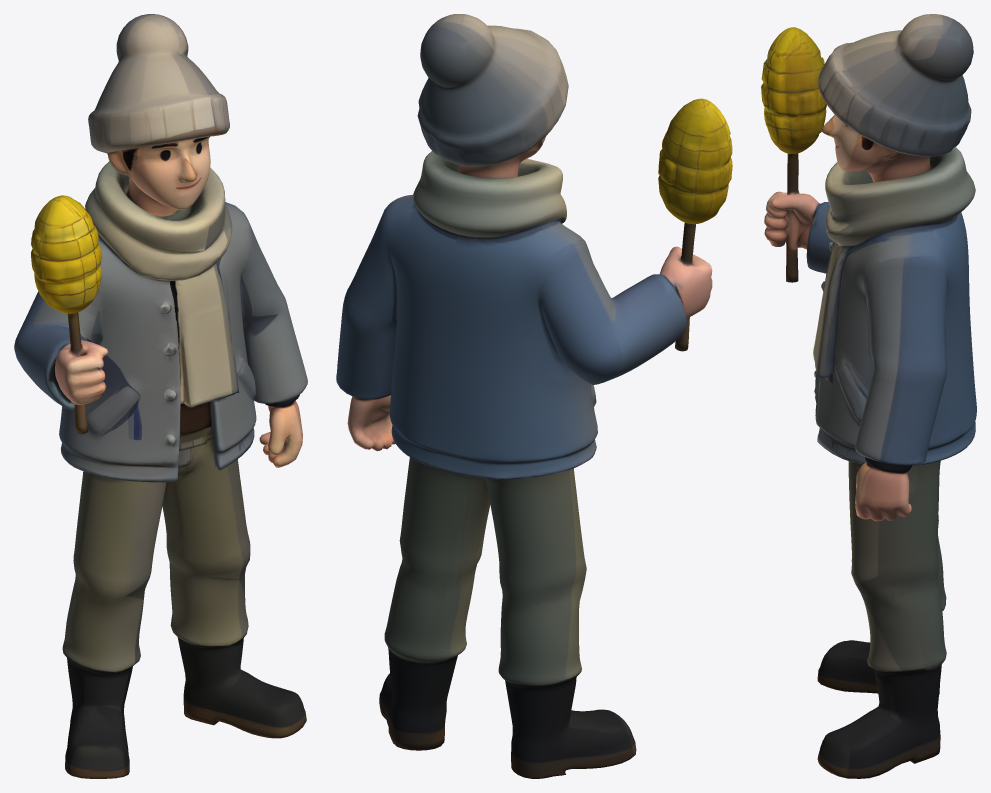
File: npc_mang_jagung.glb
3 renders of one model, left to right at view 1: azimuth 30°, elevation 25°; view 2: azimuth 150°, elevation 25°; view 3: azimuth 270°, elevation 25°, orthographic. The views are drawn at different scales.
Visible parts, largest first — view 1: model; view 2: model; view 3: model.
Boxes of the visible parts, x1,y1,x2,y2 form: model: [14, 14, 307, 778]; model: [336, 14, 732, 778]; model: [761, 14, 976, 778].
Size of the model in its own units: 0.8127 by 1.72 by 0.4741.
Materials: 1 (1 with a texture image).
